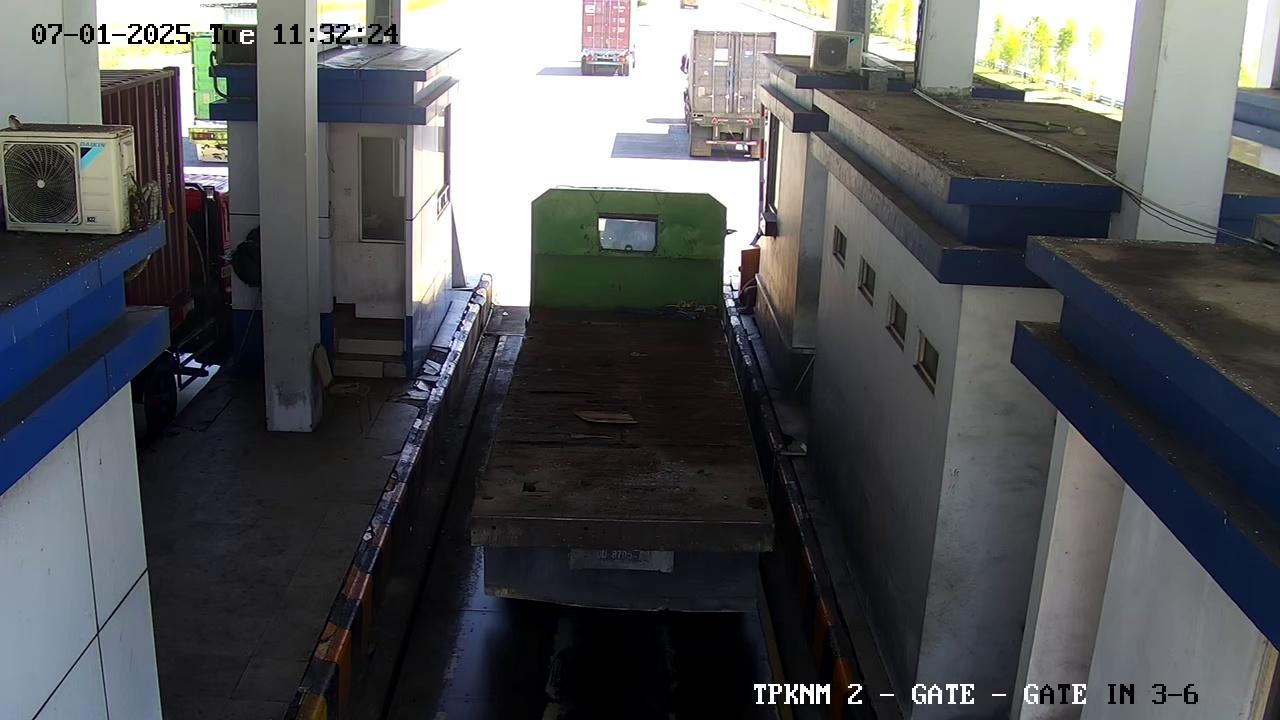plate_number: (576, 536, 667, 578)
